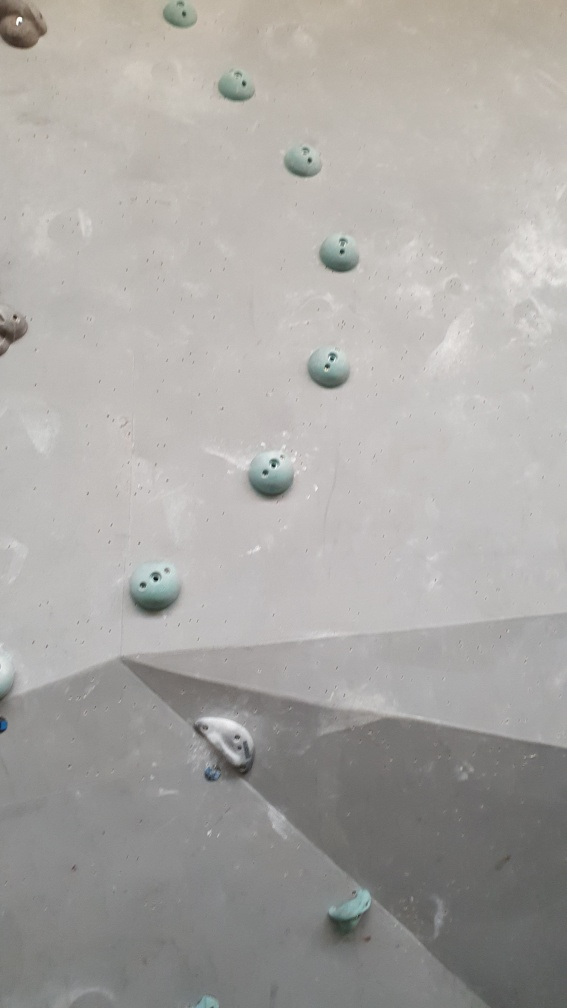Hand Start: (201, 760, 225, 788)
Jug: (324, 885, 377, 938)
Sloper: (127, 559, 187, 615), (312, 225, 371, 278), (247, 447, 302, 502), (304, 343, 359, 394), (286, 142, 333, 181), (211, 64, 258, 102), (162, 1, 207, 29)
